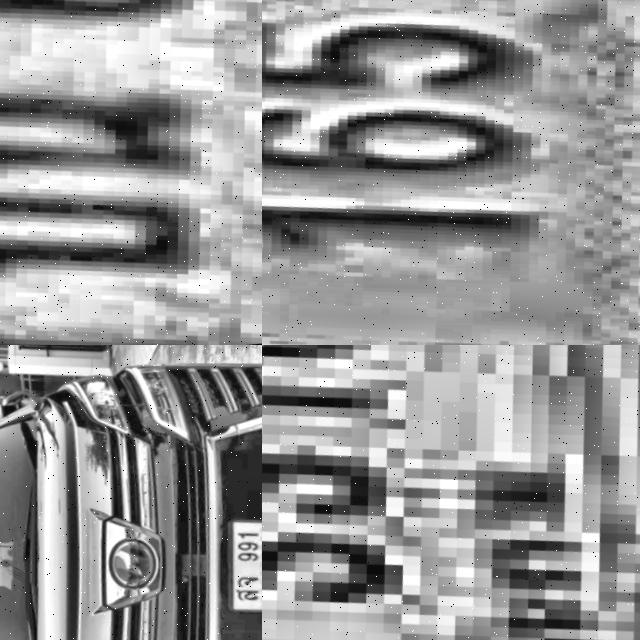license-plate: (262, 0, 640, 345), (262, 345, 640, 640), (0, 0, 262, 345), (212, 522, 262, 627)
